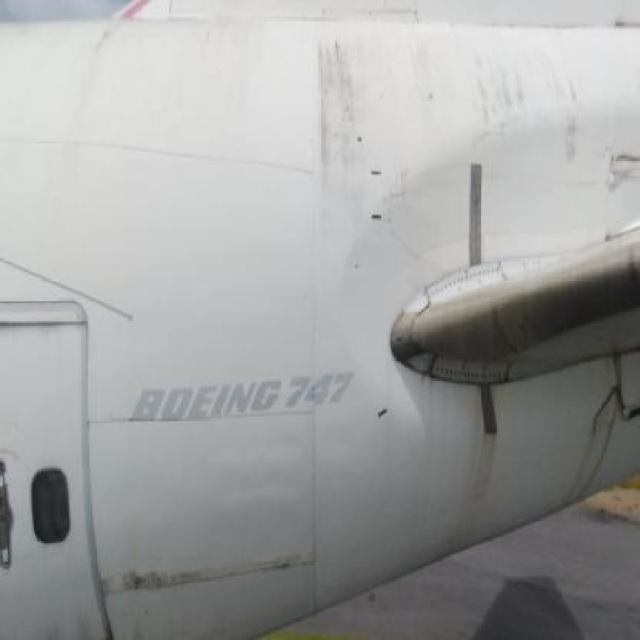Rust: (401, 23, 601, 166), (310, 13, 385, 227), (432, 379, 517, 543), (558, 366, 628, 511), (106, 544, 226, 621), (249, 538, 320, 588)
